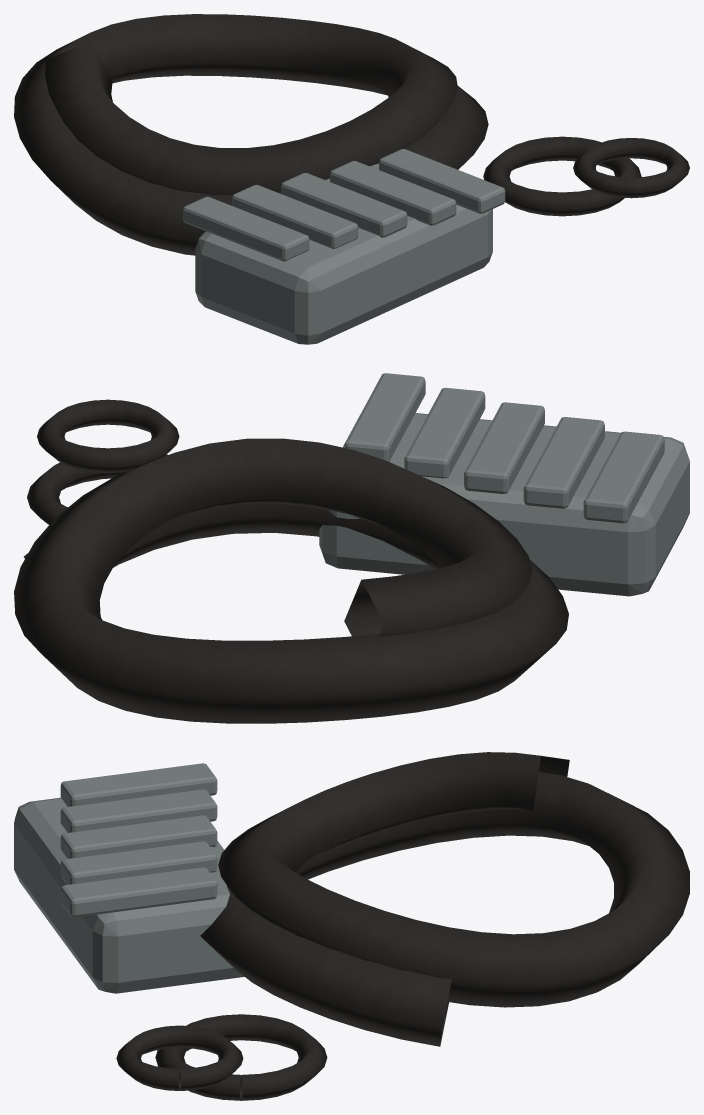
The model's file is prop_rubber_01.gltf.
The picture shows the model from 3 angles, top to bottom: view 1: azimuth 30°, elevation 25°; view 2: azimuth 150°, elevation 25°; view 3: azimuth 270°, elevation 25°; orthographic projection. The views are drawn at different scales.
Visible parts, largest first — view 1: prop_rubber_01_item_atlas_01; view 2: prop_rubber_01_item_atlas_01; view 3: prop_rubber_01_item_atlas_01.
Boxes of the visible parts, box(x1,y1,x2,y2) form: prop_rubber_01_item_atlas_01: box(14, 14, 689, 344); prop_rubber_01_item_atlas_01: box(14, 373, 689, 723); prop_rubber_01_item_atlas_01: box(14, 752, 689, 1100).
Bounding box in the file's own units: 0.1267 × 0.0298 × 0.132.
Materials: 1 (1 with a texture image).
